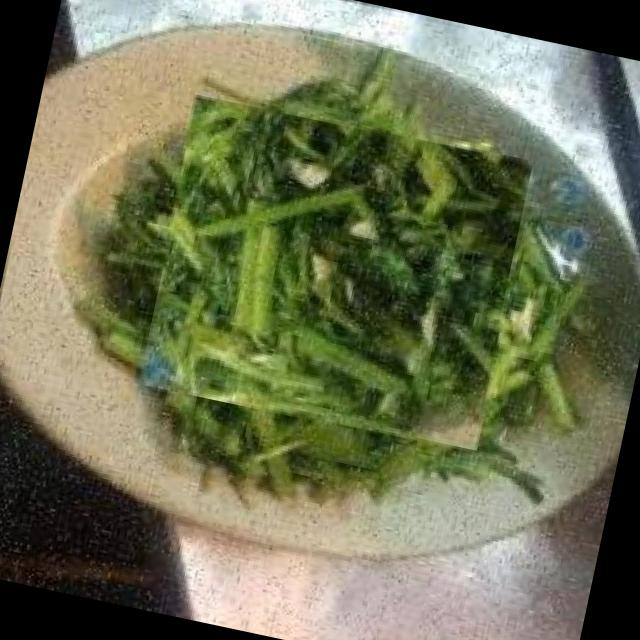water_spinach: (132, 89, 538, 458)
